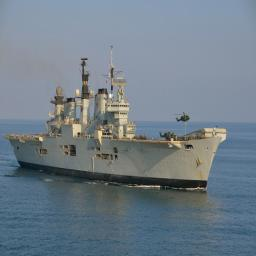Portanaves: (5, 43, 230, 196)
